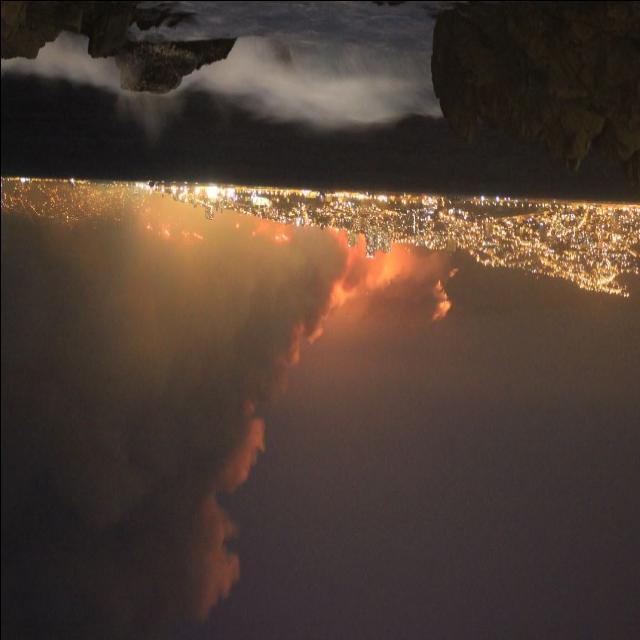Fire: (434, 270, 458, 316), (142, 221, 172, 240), (180, 225, 202, 243), (272, 233, 288, 243), (233, 221, 240, 230), (251, 231, 255, 238)
